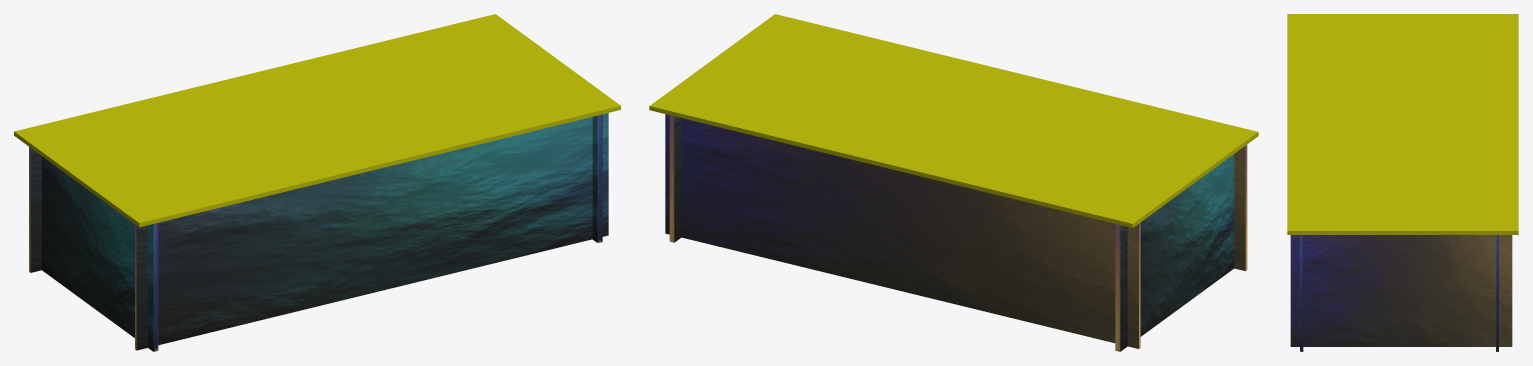
File: Rainbow Table.fbx
The picture shows the model from 3 angles, left to right: view 1: azimuth 30°, elevation 25°; view 2: azimuth 150°, elevation 25°; view 3: azimuth 270°, elevation 25°; orthographic projection. The views are drawn at different scales.
Visible parts, largest first — view 1: Table_Top, Front_Panel1, Side_panel_2, Front_Panel, side_Panel_1; view 2: Table_Top, Front_Panel, Side_panel_2, Front_Panel1, side_Panel_1; view 3: Table_Top, side_Panel_1, Front_Panel1, Front_Panel.
Part boxes in pixels (<box>): Table_Top: <box>14,14,620,227</box>; Front_Panel1: <box>135,113,608,350</box>; Side_panel_2: <box>42,156,158,351</box>; Front_Panel: <box>29,147,41,272</box>; side_Panel_1: <box>592,114,602,242</box>; Table_Top: <box>649,14,1258,227</box>; Front_Panel: <box>665,114,1140,348</box>; Side_panel_2: <box>1115,154,1234,351</box>; Front_Panel1: <box>1234,144,1247,271</box>; side_Panel_1: <box>669,115,681,242</box>; Table_Top: <box>1287,14,1518,234</box>; side_Panel_1: <box>1290,235,1512,346</box>; Front_Panel1: <box>1300,235,1303,351</box>; Front_Panel: <box>1496,235,1498,351</box>.
Size of the model in its own units: 3.89 by 1.03 by 1.75.
Materials: 2 (1 with a texture image).
